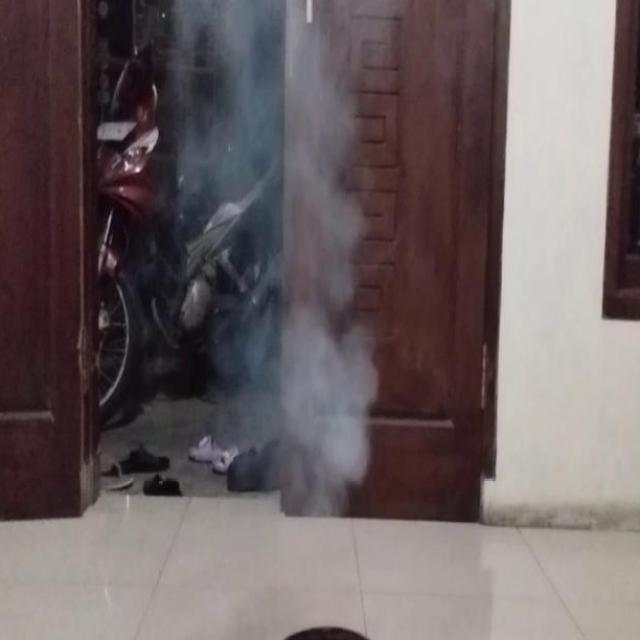fire: (200, 0, 380, 476)
